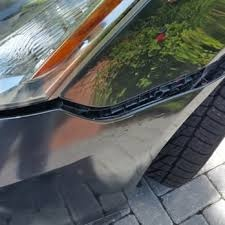Dent: (1, 53, 224, 133)
